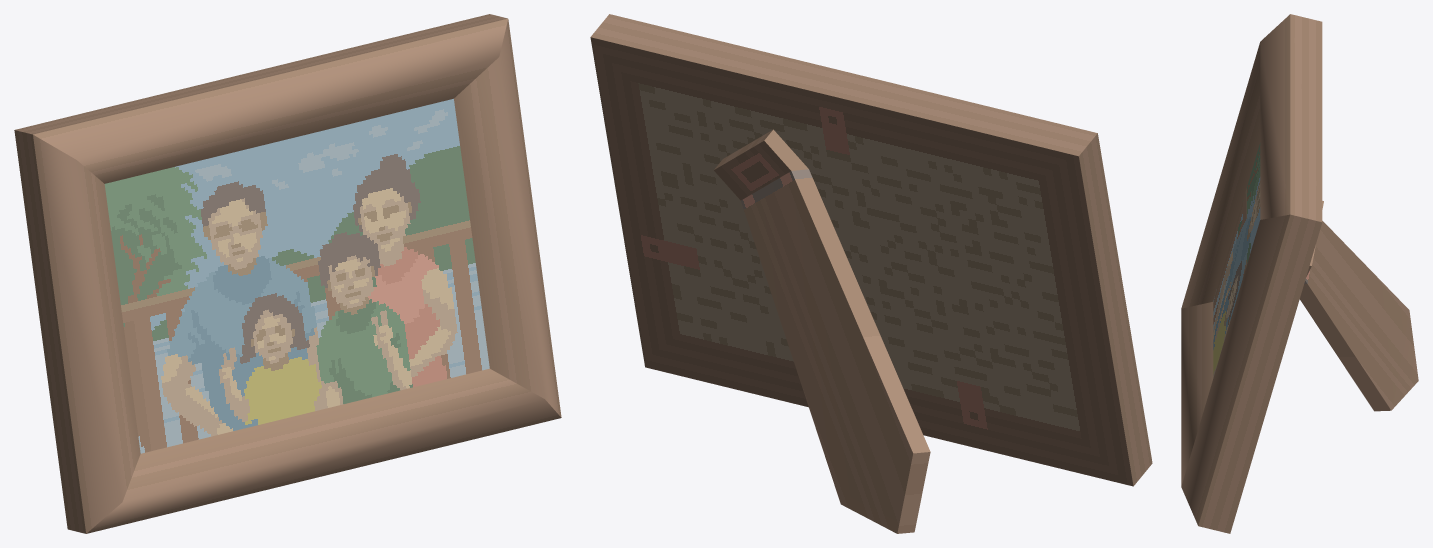
File: 052e_Picture_Frame.glb
3 views of the same model, side by side, from view 1: azimuth 30°, elevation 25°; view 2: azimuth 150°, elevation 25°; view 3: azimuth 270°, elevation 25° (orthographic). The views are drawn at different scales.
Parts seen in each view (by area): view 1: part_0; view 2: part_0; view 3: part_0.
Boxes of the visible parts, left/top/right/bottom form: part_0: left=14, top=14, right=561, bottom=533; part_0: left=590, top=14, right=1152, bottom=533; part_0: left=1181, top=14, right=1418, bottom=533.
Bounding box in the file's own units: 0.1454 × 0.1079 × 0.0727.
Materials: 1 (1 with a texture image).
